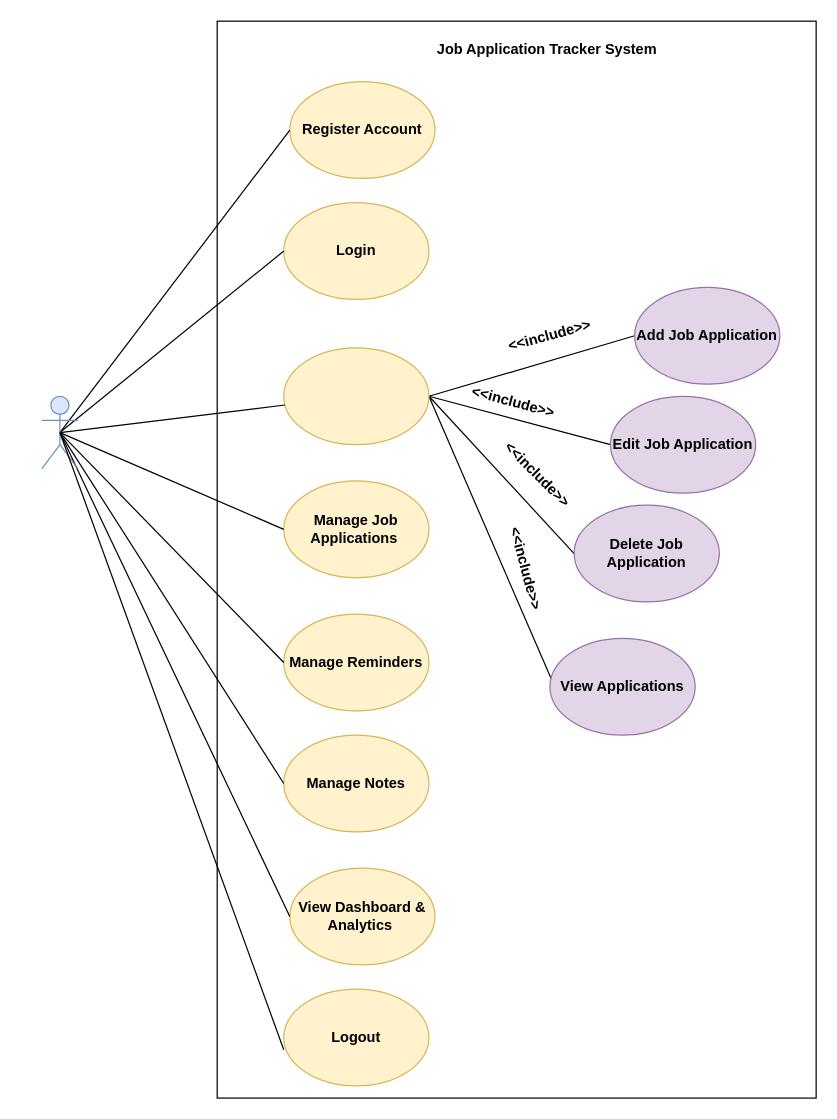
Some shapes in this 837 by 1119 pixel diagram are drawn without their labels. Each missing label, with the centre of its shape:
"Job Seeker" belongs at pixel 59 432.
"Manage Profile" belongs at pixel 356 396.
